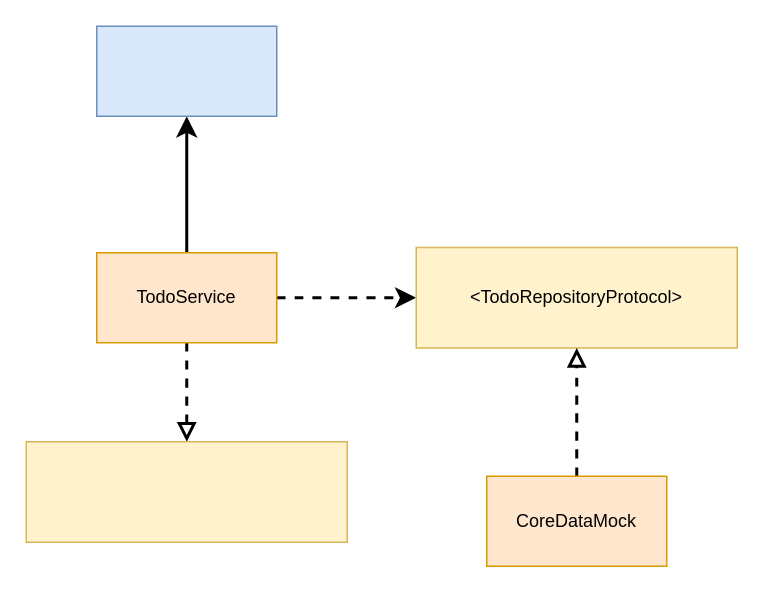
Some shapes in this 764 by 593 pixel diagram are drawn without their labels. Each missing label, with the centre of its shape:
"<TodoServiceProtocol>" goes at [186,491].
"TodoItem" goes at [186,70].
